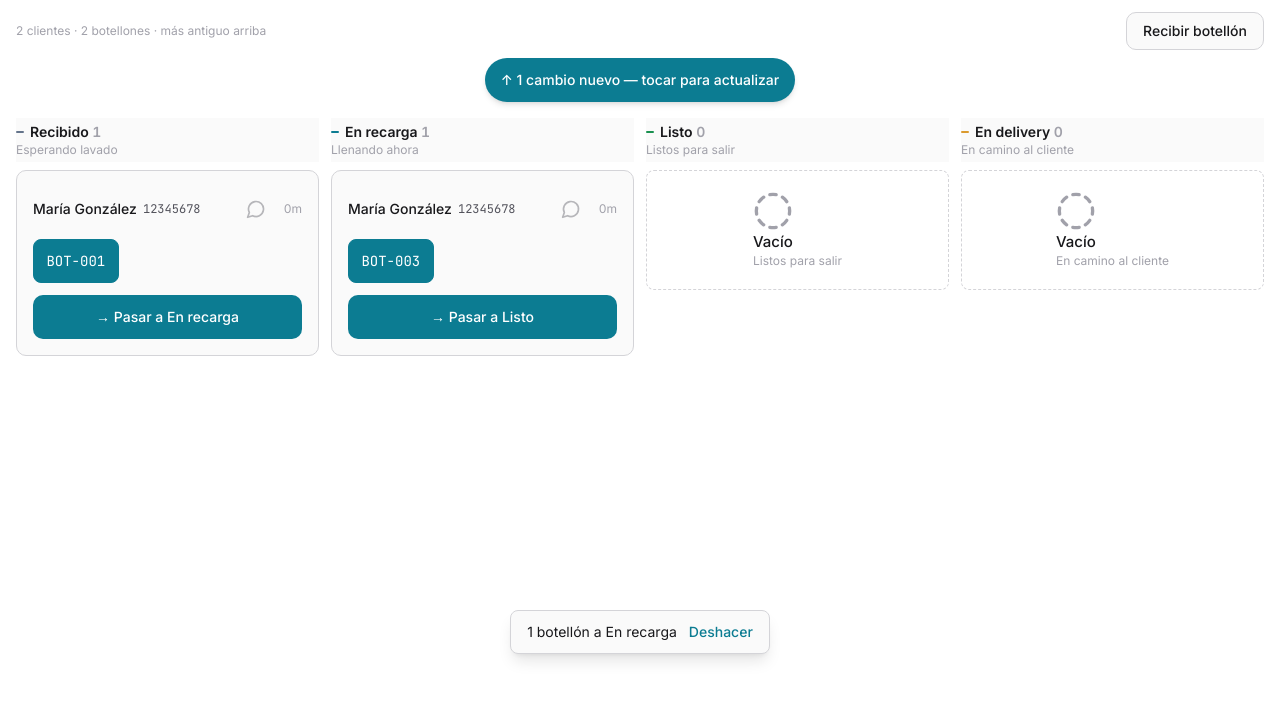
Test: ColaOperaciones — REQ-COS-21 (Slice E shell) › scroll listener wires scrolleando: change while scrolling is queued, after debounce it applies directly
Click the button with test id "chip-realtime": coordinates (640, 80) [485,58,795,102]
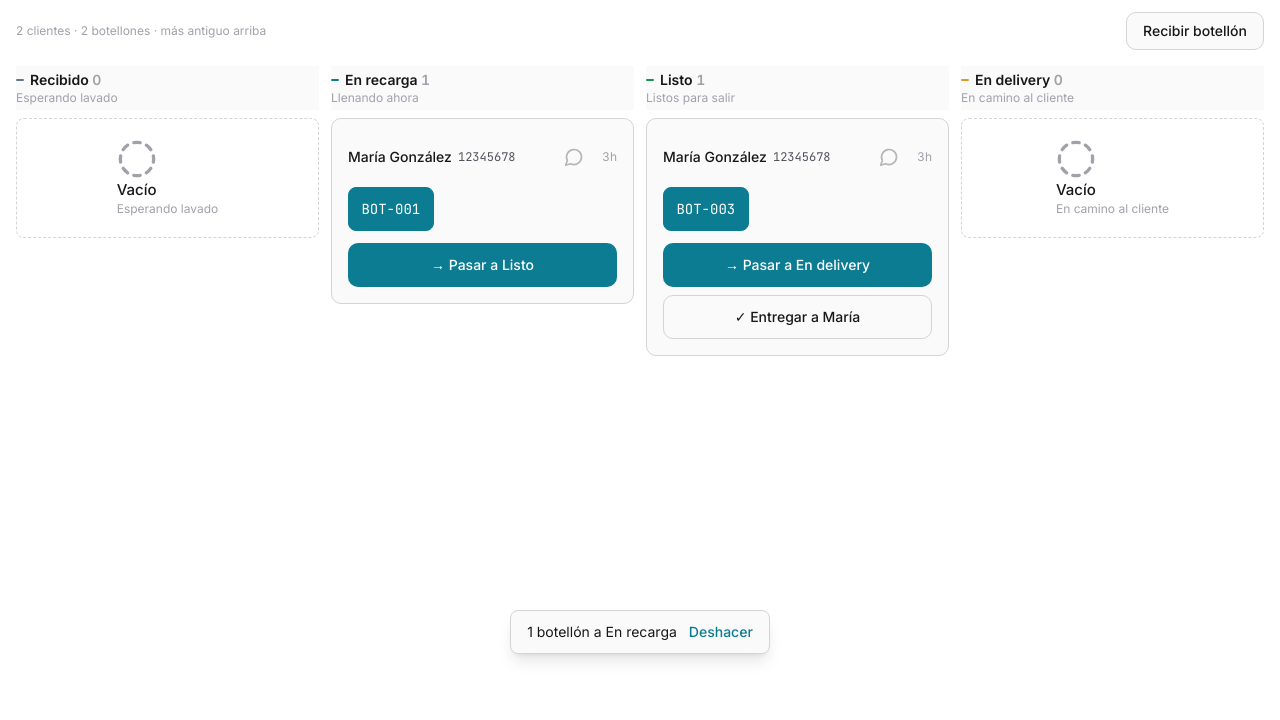
Check: the button with test id "chip-realtime" is gone
